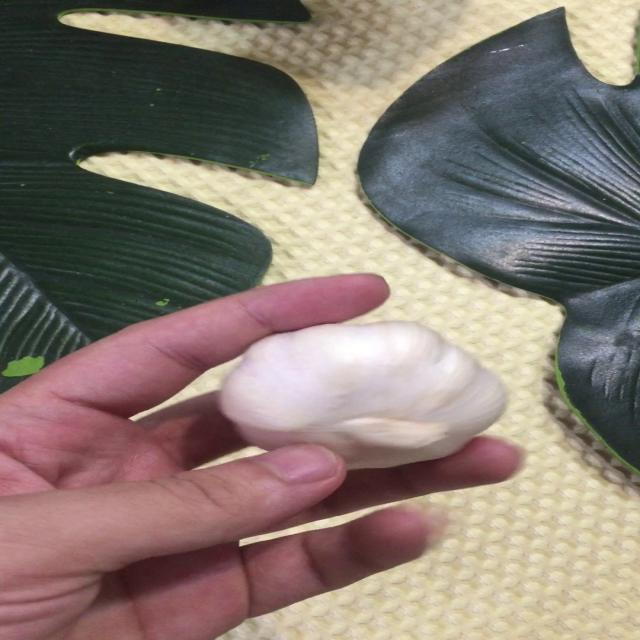garlic: (208, 312, 516, 478)
